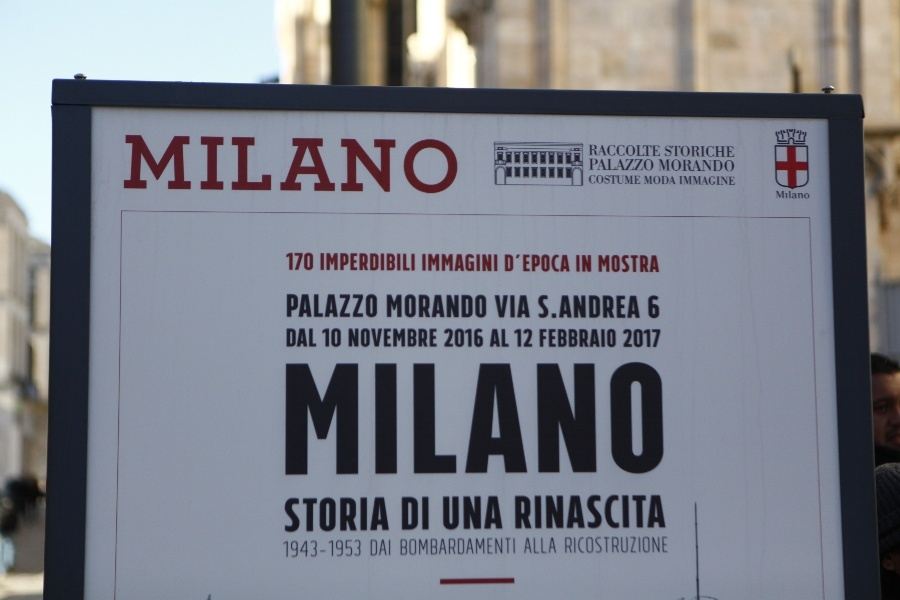text: (289, 358, 304, 482), (305, 358, 320, 482), (321, 358, 336, 482), (337, 358, 352, 482), (353, 358, 368, 482), (369, 358, 384, 482), (385, 358, 400, 482), (401, 358, 416, 482), (417, 358, 432, 482), (433, 358, 448, 482), (449, 358, 464, 482), (465, 358, 480, 482), (481, 358, 496, 482), (497, 358, 512, 482), (513, 358, 528, 482), (529, 358, 544, 482), (545, 358, 560, 482), (561, 358, 576, 482), (577, 358, 592, 482), (593, 358, 608, 482), (609, 358, 624, 482), (625, 358, 640, 482), (641, 358, 656, 482), (657, 358, 666, 482), (129, 136, 144, 195), (145, 136, 160, 195), (161, 136, 176, 195), (177, 136, 192, 195), (193, 136, 208, 195), (209, 136, 224, 195), (225, 136, 240, 195), (241, 136, 256, 195), (257, 136, 272, 195), (273, 136, 288, 195), (289, 136, 304, 195), (305, 136, 320, 195), (321, 136, 336, 195), (337, 136, 352, 195), (353, 136, 368, 195), (369, 136, 384, 195), (385, 136, 400, 195), (401, 136, 416, 195), (417, 136, 432, 195), (433, 136, 448, 195), (449, 136, 463, 195), (289, 497, 304, 535), (305, 497, 320, 535), (321, 497, 336, 535), (337, 497, 352, 535), (353, 497, 368, 535), (369, 497, 384, 535), (449, 497, 464, 531), (465, 497, 480, 531), (481, 497, 496, 531), (529, 496, 544, 530), (545, 496, 560, 530), (561, 496, 576, 530), (577, 496, 592, 530), (593, 496, 608, 530), (609, 496, 624, 530), (625, 496, 640, 530), (641, 496, 656, 530), (402, 498, 416, 532), (417, 498, 429, 532), (516, 496, 528, 530), (625, 294, 641, 319), (289, 293, 304, 318), (305, 293, 320, 318), (321, 293, 336, 318), (337, 293, 352, 318), (353, 293, 368, 318), (401, 294, 416, 319), (417, 294, 432, 319), (433, 294, 448, 319), (449, 294, 464, 319), (465, 294, 480, 319), (545, 294, 560, 319), (561, 294, 576, 319), (577, 294, 592, 319), (593, 294, 608, 319), (609, 294, 624, 319), (285, 358, 288, 482), (497, 294, 512, 318), (513, 294, 528, 318), (386, 294, 400, 319), (289, 538, 304, 561), (305, 538, 320, 561), (321, 538, 336, 561), (337, 538, 352, 561), (657, 496, 666, 530), (321, 328, 336, 348), (625, 328, 640, 348), (641, 328, 656, 348), (289, 328, 304, 347), (353, 328, 368, 347), (369, 328, 384, 347), (385, 328, 400, 347), (401, 328, 416, 347), (417, 328, 432, 347), (449, 328, 464, 347), (465, 328, 480, 347), (545, 329, 560, 348), (561, 329, 576, 348), (577, 329, 592, 348), (593, 329, 608, 348), (401, 538, 416, 557), (417, 538, 432, 557), (433, 538, 448, 557), (449, 538, 464, 557), (465, 538, 480, 557), (481, 538, 496, 557), (497, 538, 512, 557), (321, 253, 336, 271), (337, 253, 352, 271), (353, 253, 368, 271), (369, 253, 384, 271), (385, 253, 400, 271), (513, 254, 528, 272), (529, 254, 544, 272), (545, 254, 560, 272), (577, 536, 592, 554), (593, 536, 608, 554), (609, 536, 624, 554), (625, 536, 640, 554), (641, 536, 656, 554), (289, 253, 304, 270), (433, 254, 448, 271), (449, 254, 464, 271), (465, 254, 480, 271), (481, 254, 496, 271), (609, 255, 624, 272), (625, 255, 640, 272), (641, 255, 656, 272), (529, 538, 544, 555), (401, 253, 415, 271), (514, 329, 528, 347), (305, 328, 318, 347), (577, 255, 591, 272), (370, 540, 384, 557), (369, 293, 378, 318), (647, 295, 656, 320), (497, 329, 509, 347), (353, 538, 362, 561), (497, 497, 503, 531), (545, 538, 557, 555), (565, 536, 576, 554), (657, 536, 668, 554), (385, 497, 390, 535), (593, 145, 608, 157), (609, 145, 624, 157), (625, 145, 640, 157), (641, 145, 656, 157), (593, 159, 608, 171), (609, 159, 624, 171), (625, 159, 640, 171), (673, 160, 688, 172), (689, 160, 704, 172), (705, 160, 720, 172), (422, 254, 432, 271), (598, 255, 608, 272), (443, 497, 448, 531), (641, 159, 655, 171), (658, 160, 672, 172), (721, 160, 735, 172), (673, 146, 688, 157), (689, 146, 704, 157), (705, 146, 720, 157), (561, 254, 570, 272), (721, 146, 735, 157), (305, 253, 314, 270), (609, 329, 617, 348), (481, 294, 487, 319), (538, 294, 544, 319), (625, 175, 641, 184), (282, 538, 288, 561), (593, 175, 608, 184), (609, 175, 624, 184), (657, 176, 672, 185), (689, 176, 704, 185), (705, 176, 720, 185), (721, 176, 736, 185), (505, 254, 512, 272), (785, 191, 800, 199), (126, 136, 128, 195), (644, 176, 656, 185), (385, 540, 391, 557), (337, 328, 342, 348), (657, 295, 661, 320), (657, 328, 662, 348), (443, 328, 448, 347), (539, 329, 544, 348), (491, 329, 496, 347), (665, 146, 672, 157), (433, 328, 437, 347), (286, 497, 288, 535), (680, 176, 688, 185), (775, 191, 784, 199), (801, 191, 810, 199), (529, 329, 533, 347), (349, 328, 352, 347), (657, 255, 660, 272), (494, 294, 496, 318), (529, 294, 531, 318), (622, 328, 624, 348), (481, 328, 483, 347), (513, 538, 515, 557), (589, 145, 592, 157), (657, 145, 660, 157), (286, 253, 288, 270), (589, 175, 592, 184), (673, 176, 676, 185), (287, 293, 288, 318), (590, 159, 592, 171), (287, 328, 288, 347), (497, 254, 498, 271), (527, 538, 528, 555)
